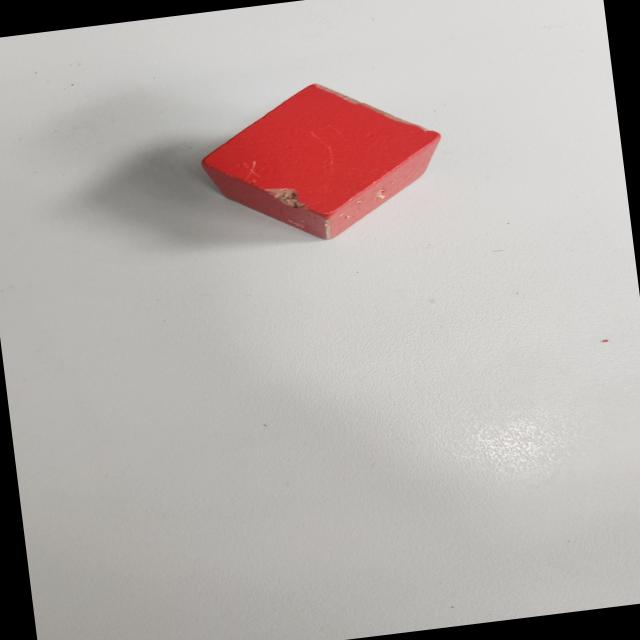broken: (192, 69, 452, 254)
